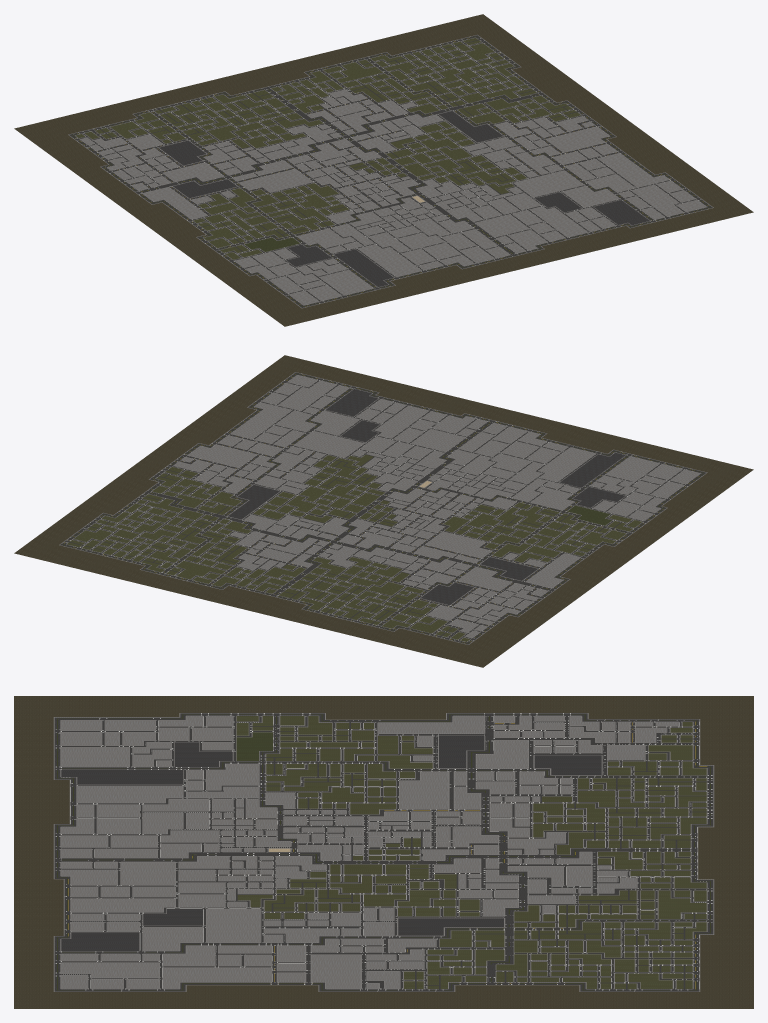
The model's file is city.glb.
3 views of the same model, one above another, from view 1: azimuth 30°, elevation 25°; view 2: azimuth 150°, elevation 25°; view 3: azimuth 270°, elevation 25° (orthographic). The views are drawn at different scales.
Parts seen in each view (by area): view 1: g_-1_2_lot, g_-2_2_lot, g_2_1_lot, g_0_2_lot, g_2_-3_garden, g_-3_0_garden, g_-1_3_lot, g_3_2_lot, g_2_2_lot, g_3_3_lot, g_2_0_lot, g_-2_-1_lot (+115 smaller); view 2: g_-1_2_lot, g_2_1_lot, g_-2_2_lot, g_0_2_lot, g_2_-3_garden, g_-3_0_garden, g_-1_3_lot, g_3_2_lot, g_2_2_lot, g_3_3_lot, g_2_0_lot, g_-2_-1_lot (+117 smaller); view 3: g_-1_2_lot, g_2_1_lot, g_-2_2_lot, g_0_2_lot, g_2_-3_garden, g_-1_3_lot, g_3_3_lot, g_3_2_lot, g_2_2_lot, g_-2_-4_garden, g_1_3_lot, g_-3_0_garden (+228 smaller).
Part boxes in pixels (x1,y1,x2,y2): g_-1_2_lot: (392,215,474,249); g_-2_2_lot: (340,228,421,261); g_2_1_lot: (520,154,601,188); g_0_2_lot: (450,202,526,236); g_2_-3_garden: (398,65,479,99); g_-3_0_garden: (227,196,307,230); g_-1_3_lot: (425,237,501,265); g_3_2_lot: (604,167,679,198); g_2_2_lot: (550,177,632,211); g_3_3_lot: (633,187,705,218); g_2_0_lot: (489,132,571,166); g_-2_-1_lot: (249,161,330,191); g_-1_2_lot: (445,445,525,479); g_2_1_lot: (257,429,338,463); g_-2_2_lot: (497,458,574,492); g_0_2_lot: (392,432,474,465); g_2_-3_garden: (135,518,216,552); g_-3_0_garden: (489,516,569,549); g_-1_3_lot: (475,425,546,456); g_3_2_lot: (250,395,316,427); g_2_2_lot: (288,406,369,441); g_3_3_lot: (271,375,343,406); g_2_0_lot: (227,451,308,485); g_-2_-1_lot: (406,524,482,558); g_-1_2_lot: (135,817,217,852); g_2_1_lot: (218,922,300,957); g_-2_2_lot: (135,782,217,817); g_0_2_lot: (135,852,217,887); g_2_-3_garden: (550,922,632,957); g_-1_3_lot: (61,819,135,852); g_3_3_lot: (61,957,135,988); g_3_2_lot: (135,957,217,988); g_2_2_lot: (135,922,217,957); g_-2_-4_garden: (632,782,706,816); g_1_3_lot: (71,887,135,922); g_-3_0_garden: (301,747,383,782).
Size of the model in its own units: 2231 by 0.15 by 2231.
10 materials, 9 textured.
